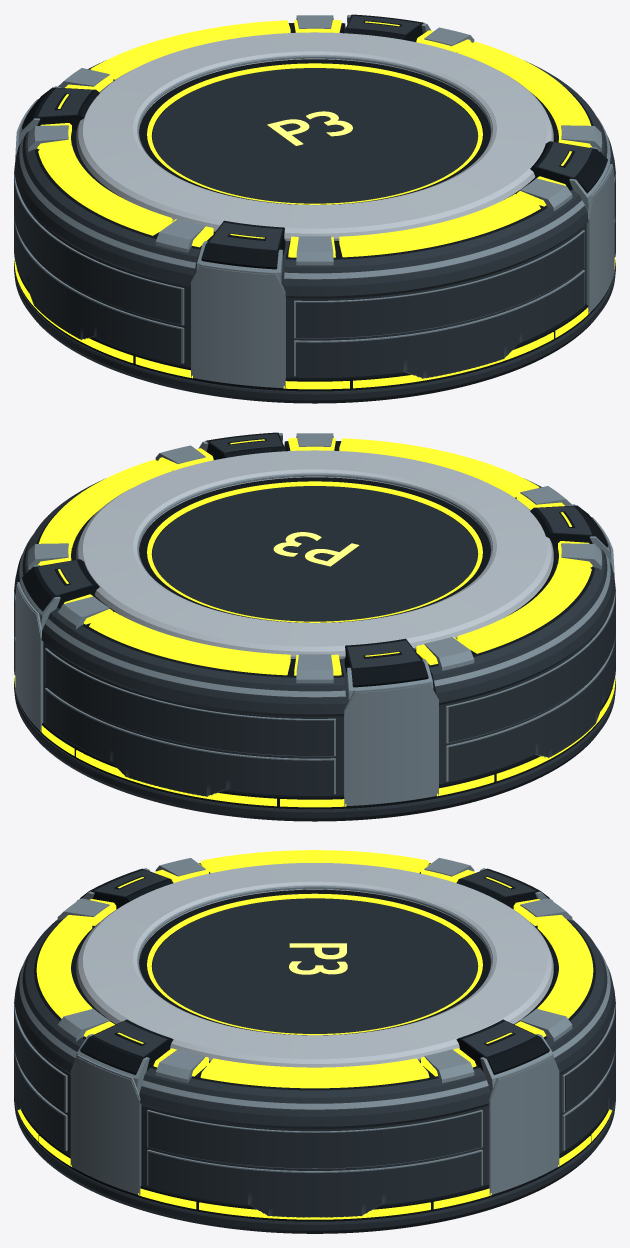
File: Heavy.fbx
3 views of the same model, one above another, from view 1: azimuth 30°, elevation 25°; view 2: azimuth 150°, elevation 25°; view 3: azimuth 270°, elevation 25° (orthographic).
Parts seen in each view (by area): view 1: SM_Puck_Heavy_P3_HighDetail; view 2: SM_Puck_Heavy_P3_HighDetail; view 3: SM_Puck_Heavy_P3_HighDetail.
Boxes of the visible parts, bbox=[...] form: SM_Puck_Heavy_P3_HighDetail: bbox=[14, 14, 615, 403]; SM_Puck_Heavy_P3_HighDetail: bbox=[14, 432, 615, 821]; SM_Puck_Heavy_P3_HighDetail: bbox=[14, 850, 615, 1233].
Size of the model in its own units: 97.5 by 97.5 by 27.3.
